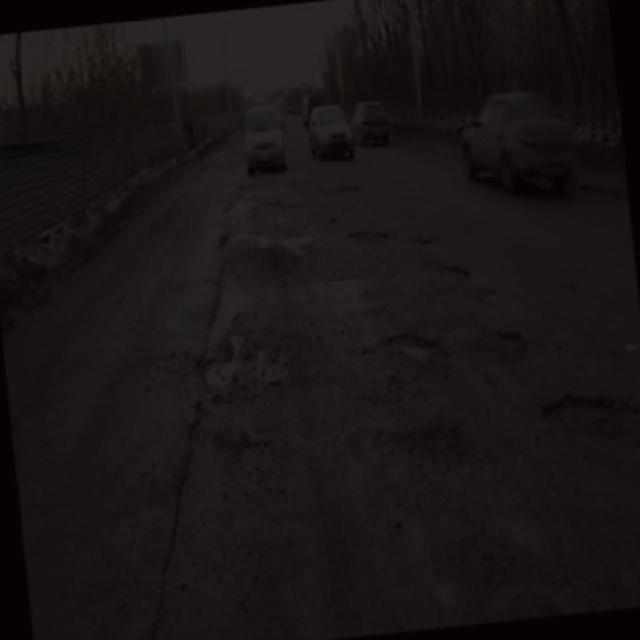Pothole: (195, 312, 288, 404), (528, 382, 640, 452), (222, 221, 324, 268), (371, 327, 454, 378), (461, 320, 541, 364), (426, 256, 483, 296), (354, 231, 398, 247), (408, 232, 445, 250)
